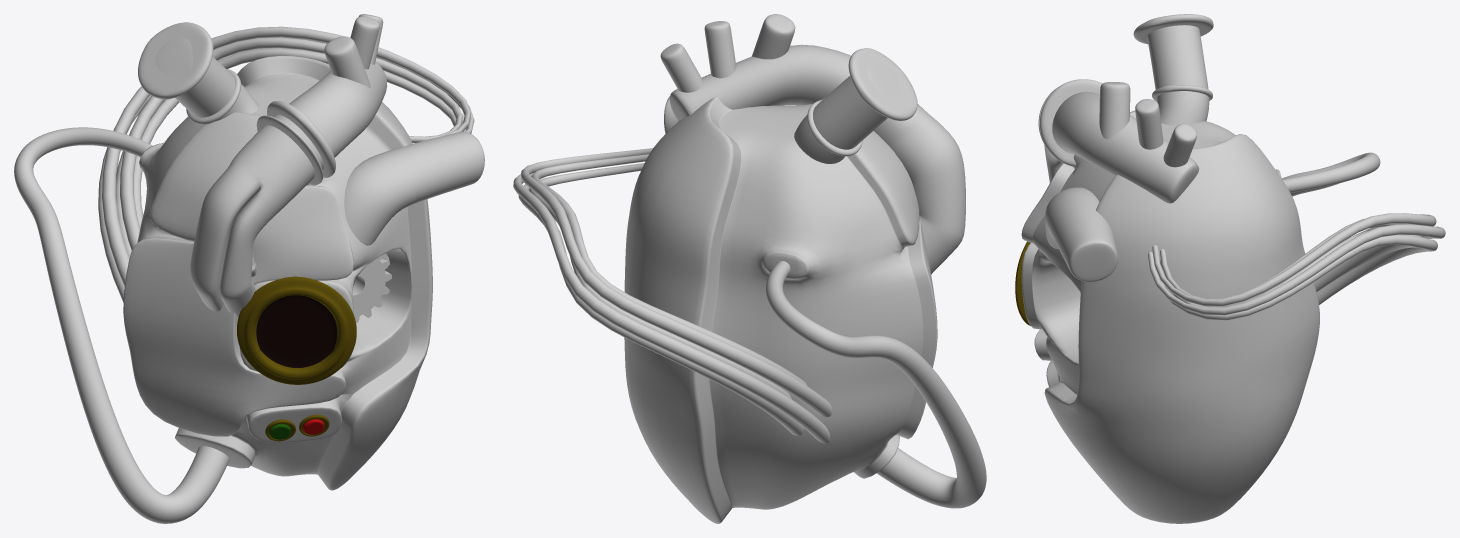
Rendered from Heart.fbx.
3 views of the same model, side by side, from view 1: azimuth 30°, elevation 25°; view 2: azimuth 150°, elevation 25°; view 3: azimuth 270°, elevation 25° (orthographic). The views are drawn at different scales.
Visible parts, largest first — view 1: Heart_Body, Long_front_tube, tube_sweep, Wire_Sweep, Pressure_valve, Front_Tube, big_back_tube, Valve_extention_top_back1, pGear1, small_tube1, Main_valve_ring1, small_tube2 (+4 smaller); view 2: Heart_Body, Wire_Sweep, Long_front_tube, tube_sweep, big_back_tube, Valve_extention_top_back1, small_tube2, small_tube1, smalltube3, Valve_extention_top_back_lower; view 3: Heart_Body, Wire_Sweep, Long_front_tube, Front_Tube, big_back_tube, tube_sweep, Main_valve_ring1, small_tube1, small_tube2, Valve_extention_top_back1, smalltube3, Pressure_valve.
Boxes of the visible parts, x1=… form: Heart_Body: x1=123, y1=56, x2=432, y2=490; Long_front_tube: x1=190, y1=62, x2=386, y2=317; tube_sweep: x1=14, y1=127, x2=229, y2=523; Wire_Sweep: x1=98, y1=26, x2=474, y2=302; Pressure_valve: x1=237, y1=276, x2=356, y2=384; Front_Tube: x1=344, y1=131, x2=484, y2=245; big_back_tube: x1=155, y1=37, x2=259, y2=125; Valve_extention_top_back1: x1=138, y1=22, x2=213, y2=99; pGear1: x1=352, y1=255, x2=391, y2=323; small_tube1: x1=324, y1=36, x2=370, y2=87; Main_valve_ring1: x1=267, y1=101, x2=335, y2=177; small_tube2: x1=350, y1=16, x2=379, y2=69; Heart_Body: x1=624, y1=97, x2=937, y2=523; Wire_Sweep: x1=513, y1=148, x2=832, y2=443; Long_front_tube: x1=669, y1=44, x2=965, y2=274; tube_sweep: x1=766, y1=261, x2=986, y2=508; big_back_tube: x1=794, y1=63, x2=899, y2=163; Valve_extention_top_back1: x1=848, y1=48, x2=917, y2=120; small_tube2: x1=704, y1=21, x2=736, y2=78; small_tube1: x1=752, y1=14, x2=795, y2=59; smalltube3: x1=660, y1=43, x2=703, y2=92; Valve_extention_top_back_lower: x1=807, y1=100, x2=862, y2=156; Heart_Body: x1=1021, y1=110, x2=1319, y2=523; Wire_Sweep: x1=1148, y1=213, x2=1445, y2=320; Long_front_tube: x1=1044, y1=91, x2=1199, y2=203; Front_Tube: x1=1045, y1=187, x2=1117, y2=281; big_back_tube: x1=1147, y1=25, x2=1209, y2=125; tube_sweep: x1=1282, y1=152, x2=1380, y2=196; Main_valve_ring1: x1=1040, y1=79, x2=1102, y2=166; small_tube1: x1=1099, y1=82, x2=1130, y2=139; small_tube2: x1=1135, y1=99, x2=1163, y2=149; Valve_extention_top_back1: x1=1133, y1=14, x2=1213, y2=44; smalltube3: x1=1163, y1=123, x2=1196, y2=167; Pressure_valve: x1=1015, y1=241, x2=1030, y2=325.
Size of the model in its own units: 7.76 by 8.59 by 7.52.
